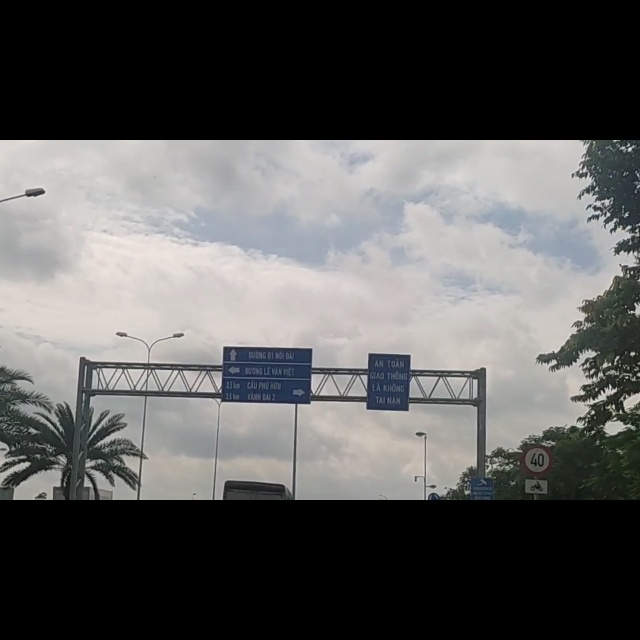bien_chi_dan: (520, 538, 555, 599), (523, 597, 550, 629)
